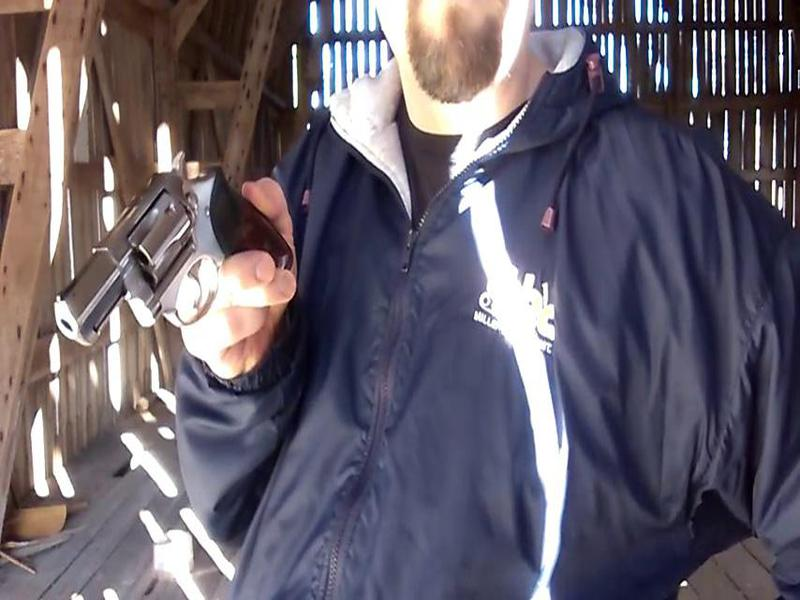Revolver: (43, 150, 319, 367)
